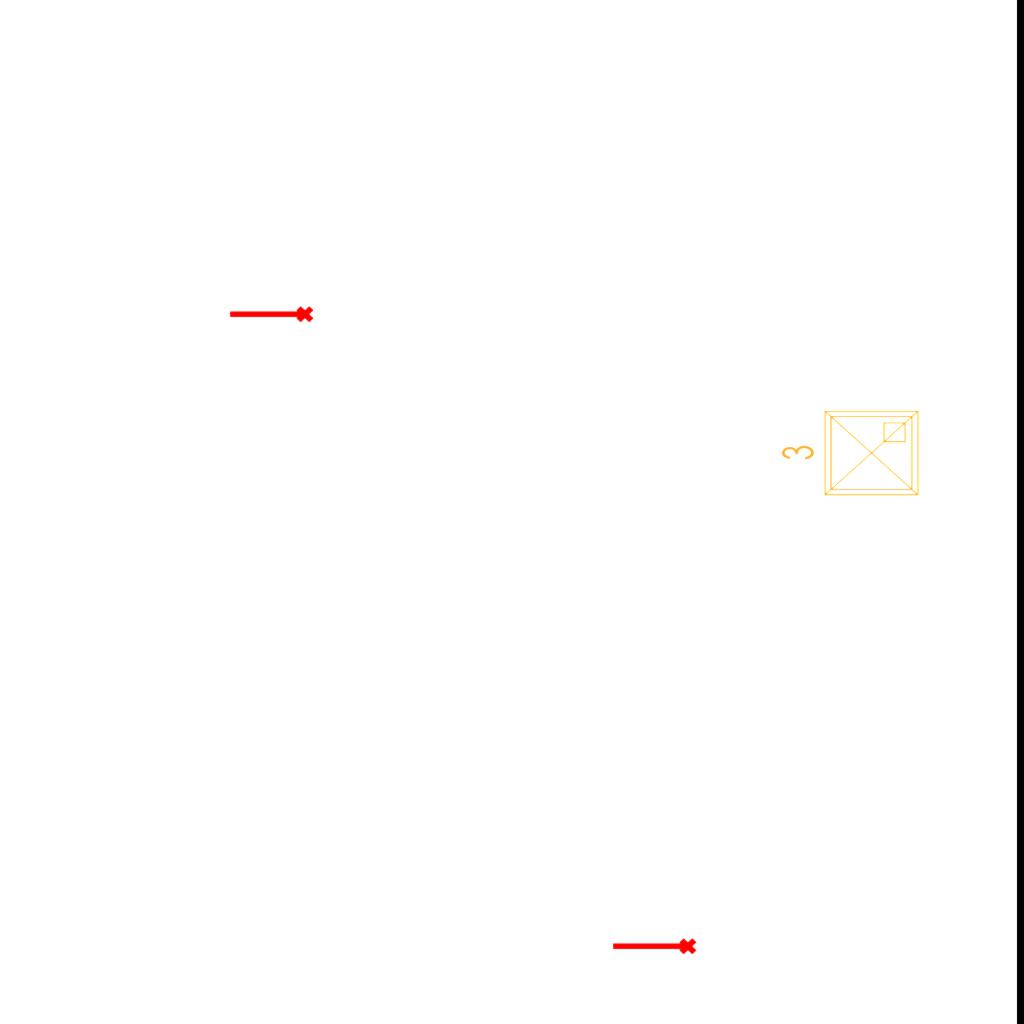ASR_Ansaugoeffnung: (610, 936, 698, 959), (227, 304, 315, 327)
Einbaudownlights_LED_Konferenzraeume: (776, 403, 926, 507)
